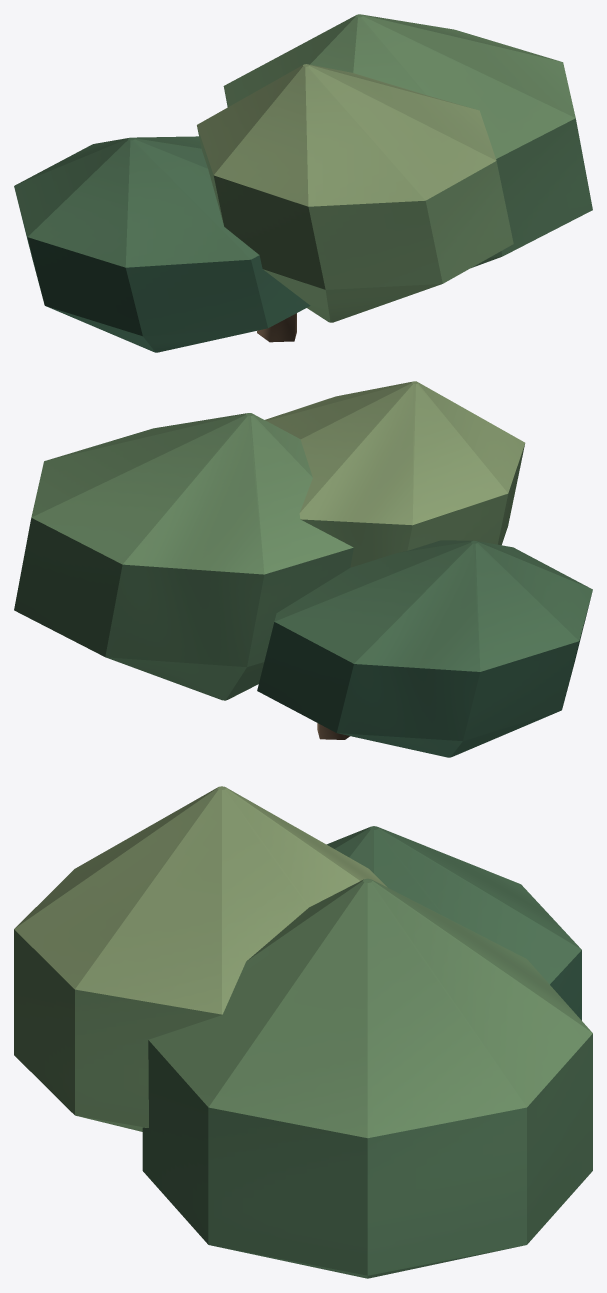
Rendered from coast_shrub.glb.
The picture shows the model from 3 angles, top to bottom: view 1: azimuth 30°, elevation 25°; view 2: azimuth 150°, elevation 25°; view 3: azimuth 270°, elevation 25°; orthographic projection. The views are drawn at different scales.
Parts seen in each view (by area): view 1: coast_shrub; view 2: coast_shrub; view 3: coast_shrub.
Part boxes in pixels (x1,y1,x2,y2): coast_shrub: (14, 14, 592, 352); coast_shrub: (14, 381, 592, 757); coast_shrub: (14, 786, 592, 1278).
Bounding box in the file's own units: 1.32 × 0.723 × 0.9131.
Materials: 1 (1 with a texture image).
